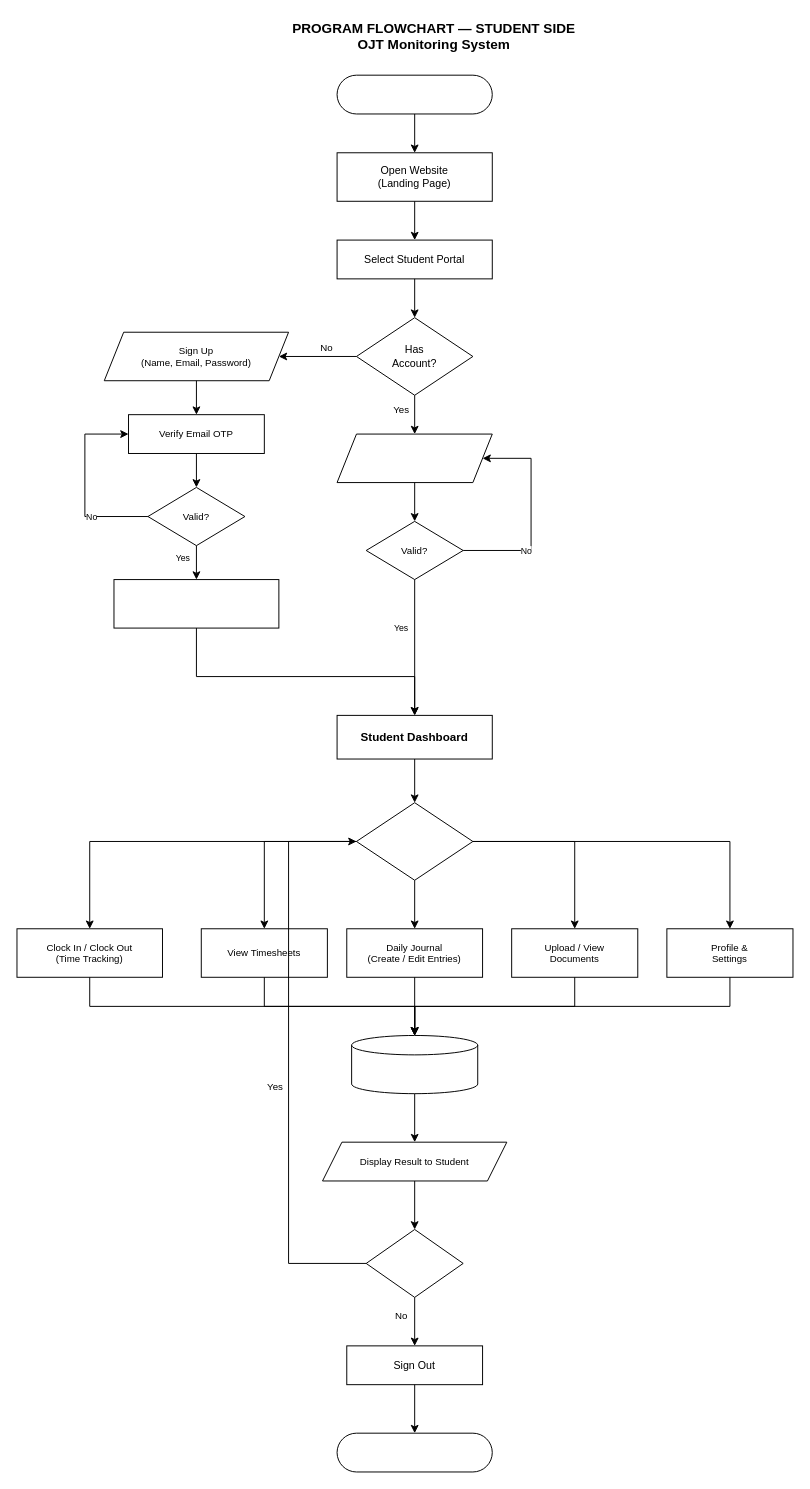
Image size: 810x1489. Some labels were removed from this diagram. The shapes that lost their labels are listed below. From the top down, each one's centre as x and y in pixels, then its label:
the point at 414,94: START
the point at 414,458: Enter Email and Password
the point at 196,603: Complete Onboarding (Profile & Company Setup)
the point at 414,841: Select Module
the point at 414,1064: Process Data (Supabase Database)
the point at 414,1263: Continue?
the point at 414,1452: END
